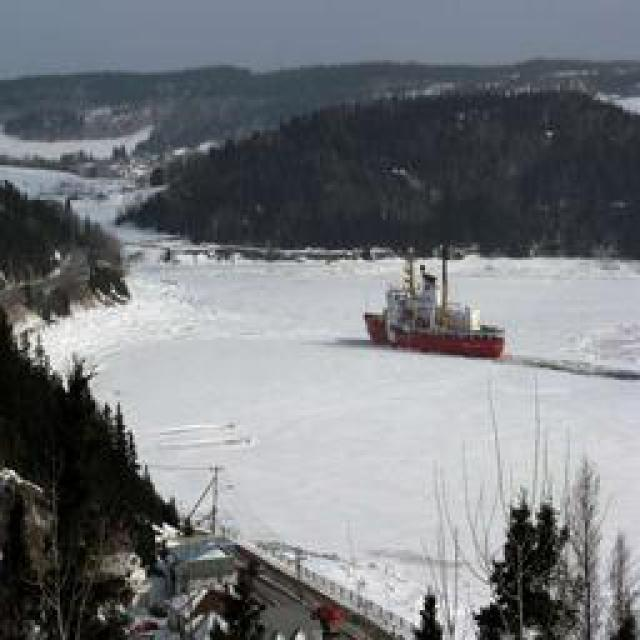Ship: (365, 274, 508, 359)
